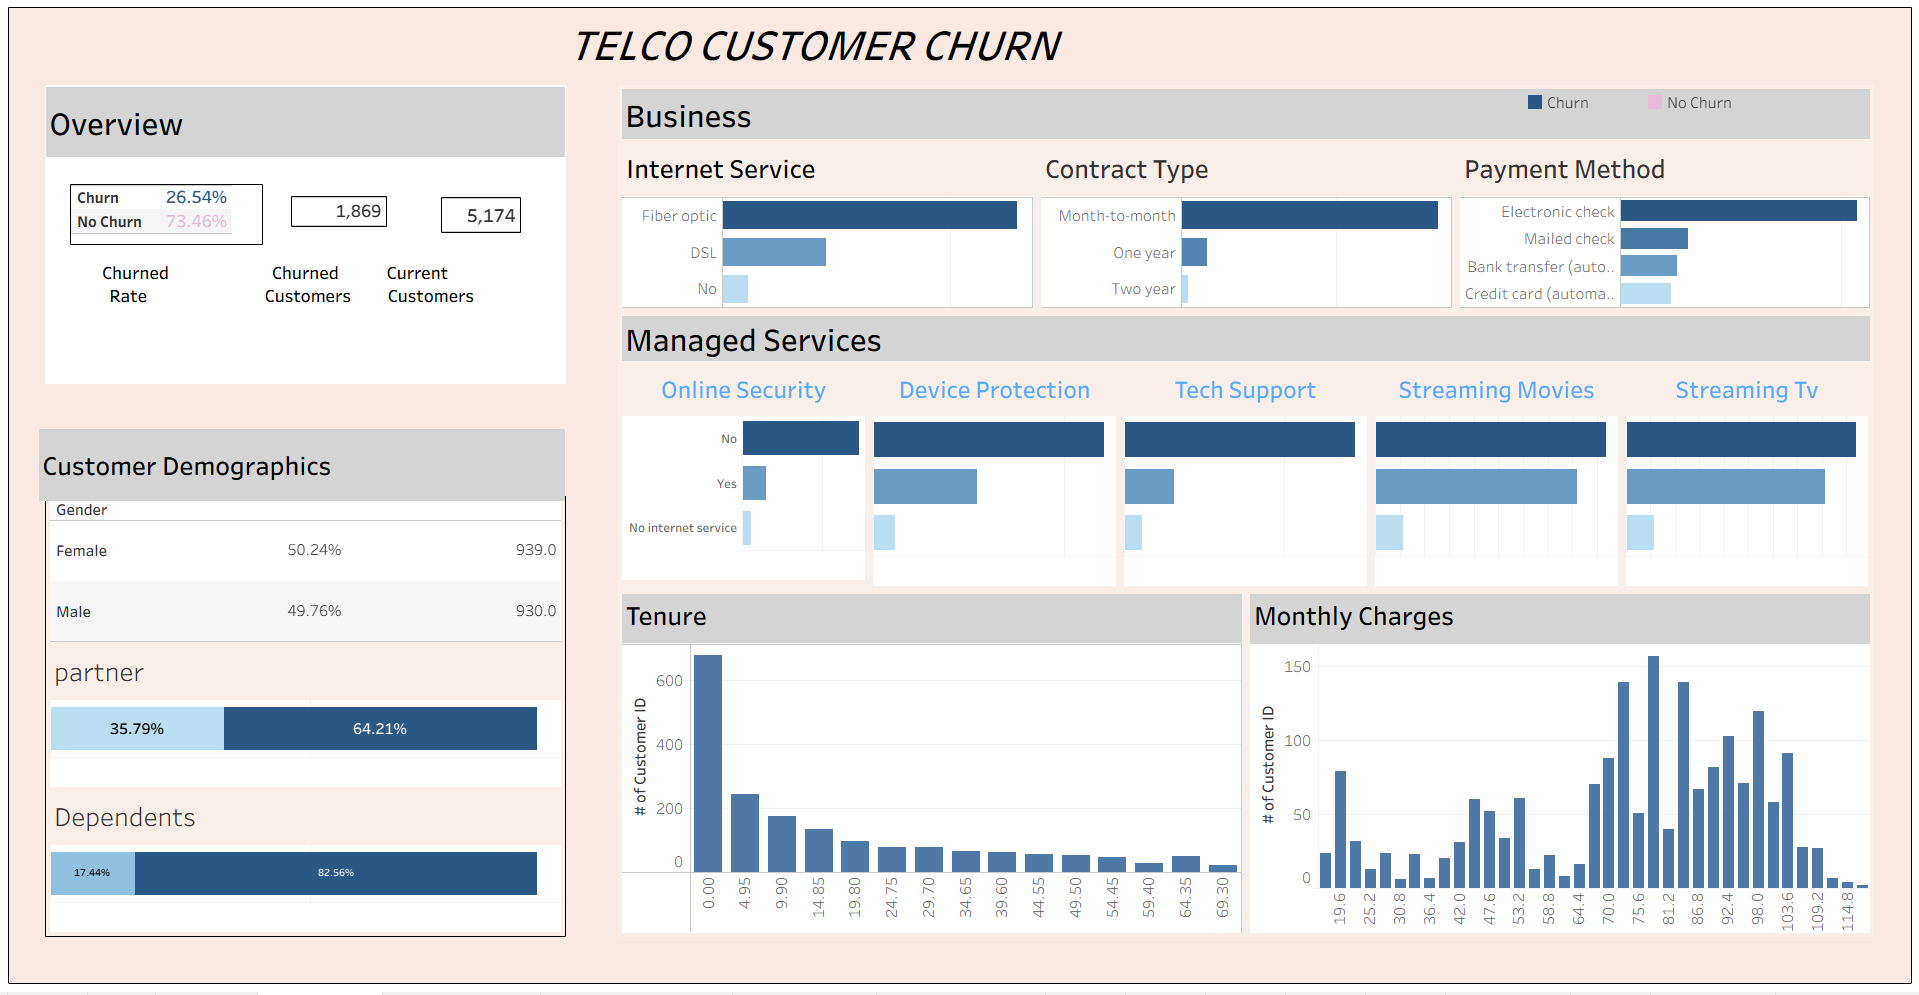

What the dashboard file says about the page in this screenshot:
{"tool":"tableau","page":{"name":"Dashboard 1","canvas":[1000,1000],"units":"permille","ordinal":0},"visuals":[{"type":"text","box":[160.5,10.9,528.4,68.9]},{"type":"legend","title":"churned rate","param":"[federated.1c94pka0d02pmd14s1cyp1slqojq].[none:Churn:nk]","box":[794.4,71.3,150.6,65.3]},{"type":"text","box":[322.3,87.9,653,58.8]},{"type":"text","box":[24.1,88.3,271,411.1]},{"type":"text","box":[24.1,88.3,270.4,71.3]},{"type":"worksheet","title":"internet service","mark":"Automatic","rows":["InternetService"],"cols":["Churn","customerID"],"box":[322.3,146.3,217.9,169.3]},{"type":"worksheet","title":"contract_type","mark":"Automatic","rows":["Contract"],"cols":["Churn","customerID"],"box":[540.1,146.3,217.9,169.3]},{"type":"worksheet","title":"payment_method","mark":"Automatic","rows":["PaymentMethod"],"cols":["Churn","customerID"],"box":[758,146.3,217.3,169.3]},{"type":"worksheet","title":"churned rate","mark":"Automatic","rows":["Churn"],"box":[36.3,186.2,100.8,61.7]},{"type":"worksheet","title":"churn_per","mark":"Automatic","rows":["Churn"],"box":[151.7,198.3,49.8,31.4]},{"type":"worksheet","title":"no churned","mark":"Automatic","rows":["Churn"],"box":[229.6,199.5,41.6,36.3]},{"type":"text","box":[43.9,245.5,243.7,82.2]},{"type":"text","box":[322.3,315.8,653,53.5]},{"type":"worksheet","title":"online_security","mark":"Automatic","rows":["OnlineSecurity"],"cols":["customerID"],"box":[322.3,368.8,130.4,226.1]},{"type":"worksheet","title":"device_protection","mark":"Automatic","rows":["DeviceProtection"],"cols":["customerID"],"box":[452.6,368.8,130.3,226.1]},{"type":"worksheet","title":"tech_support","mark":"Automatic","rows":["TechSupport"],"cols":["customerID"],"box":[583,368.8,130.4,226.1]},{"type":"worksheet","title":"streaming_movies","mark":"Automatic","rows":["StreamingMovies"],"cols":["customerID"],"box":[713.3,368.8,130.3,226.1]},{"type":"worksheet","title":"tv streaming","mark":"Automatic","rows":["StreamingTV"],"cols":["customerID"],"box":[843.7,368.8,130.4,226.1]},{"type":"text","box":[11.7,388.2,283.5,21.8]},{"type":"text","box":[20.5,432.9,274,72.5]},{"type":"worksheet","title":"Sheet 17","mark":"Automatic","rows":["gender"],"box":[24.7,500.5,269.6,136]},{"type":"worksheet","title":"tenure","mark":"Automatic","rows":["Churn","customerID"],"cols":["Tenure (bin)"],"box":[322.3,594.9,326.5,348.2]},{"type":"worksheet","title":"montlycharges","mark":"Automatic","rows":["customerID"],"cols":["Monthly Charges (bin)"],"box":[648.8,594.9,326.5,348.2]},{"type":"worksheet","title":"partner","mark":"Automatic","rows":["Churn"],"cols":["customerID"],"box":[24.7,636.6,269.6,152.7]},{"type":"worksheet","title":"Dependents","mark":"Automatic","cols":["customerID"],"box":[24.7,789.2,269.6,152.7]}]}

Visuals, with their boxes on the dashboard's canvas, which has no fixed pixel size, in thousandths of its width and height (x1, y1, x2, y2). These are canvas units, not pixel positions in the 1919x995 screenshot, which may show the page scaled, cropped or inside an application window:
text: (160, 11, 689, 80)
"churned rate" legend: (794, 71, 945, 137)
text: (322, 88, 975, 147)
text: (24, 88, 295, 499)
text: (24, 88, 294, 160)
"internet service" worksheet: (322, 146, 540, 316)
"contract_type" worksheet: (540, 146, 758, 316)
"payment_method" worksheet: (758, 146, 975, 316)
"churned rate" worksheet: (36, 186, 137, 248)
"churn_per" worksheet: (152, 198, 202, 230)
"no churned" worksheet: (230, 200, 271, 236)
text: (44, 246, 288, 328)
text: (322, 316, 975, 369)
"online_security" worksheet: (322, 369, 453, 595)
"device_protection" worksheet: (453, 369, 583, 595)
"tech_support" worksheet: (583, 369, 713, 595)
"streaming_movies" worksheet: (713, 369, 844, 595)
"tv streaming" worksheet: (844, 369, 974, 595)
text: (12, 388, 295, 410)
text: (20, 433, 294, 505)
"Sheet 17" worksheet: (25, 500, 294, 636)
"tenure" worksheet: (322, 595, 649, 943)
"montlycharges" worksheet: (649, 595, 975, 943)
"partner" worksheet: (25, 637, 294, 789)
"Dependents" worksheet: (25, 789, 294, 942)
